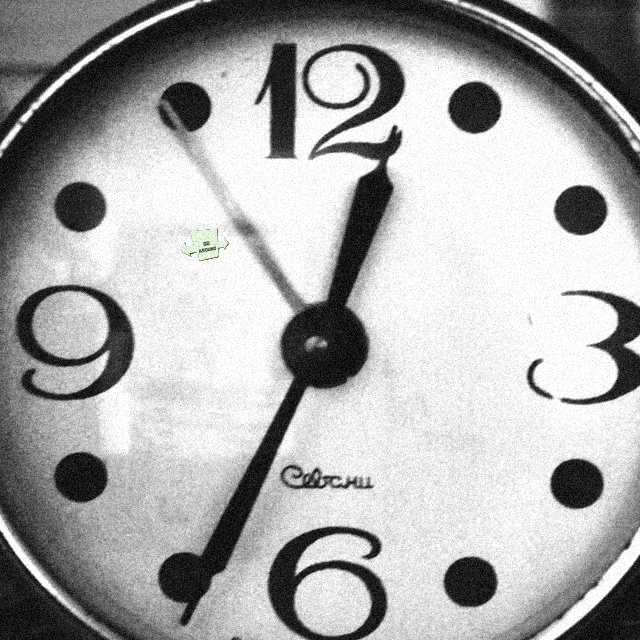GO_AROUND: (180, 228, 229, 261)
